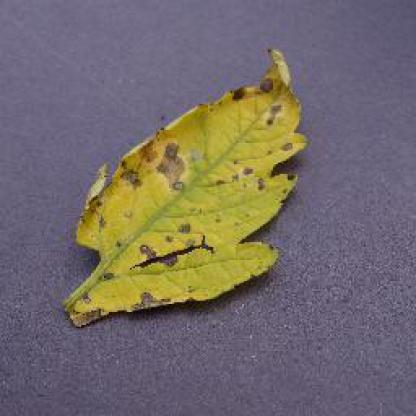bad leaf: (9, 54, 383, 330)
